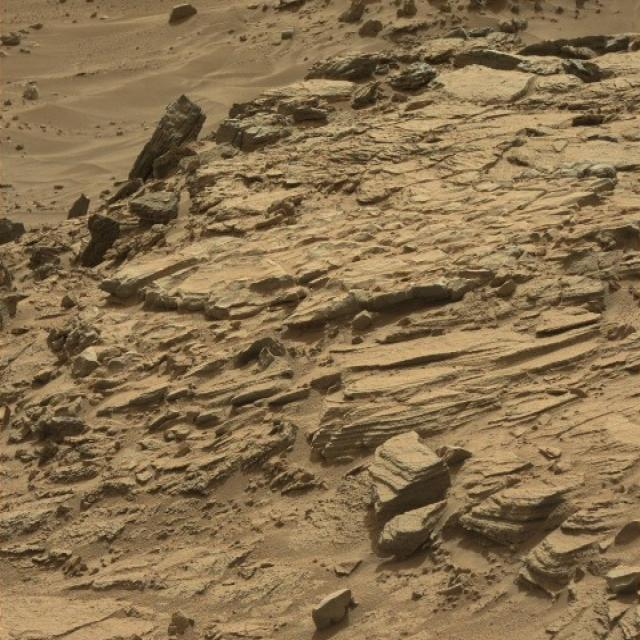rock: (126, 94, 209, 188)
